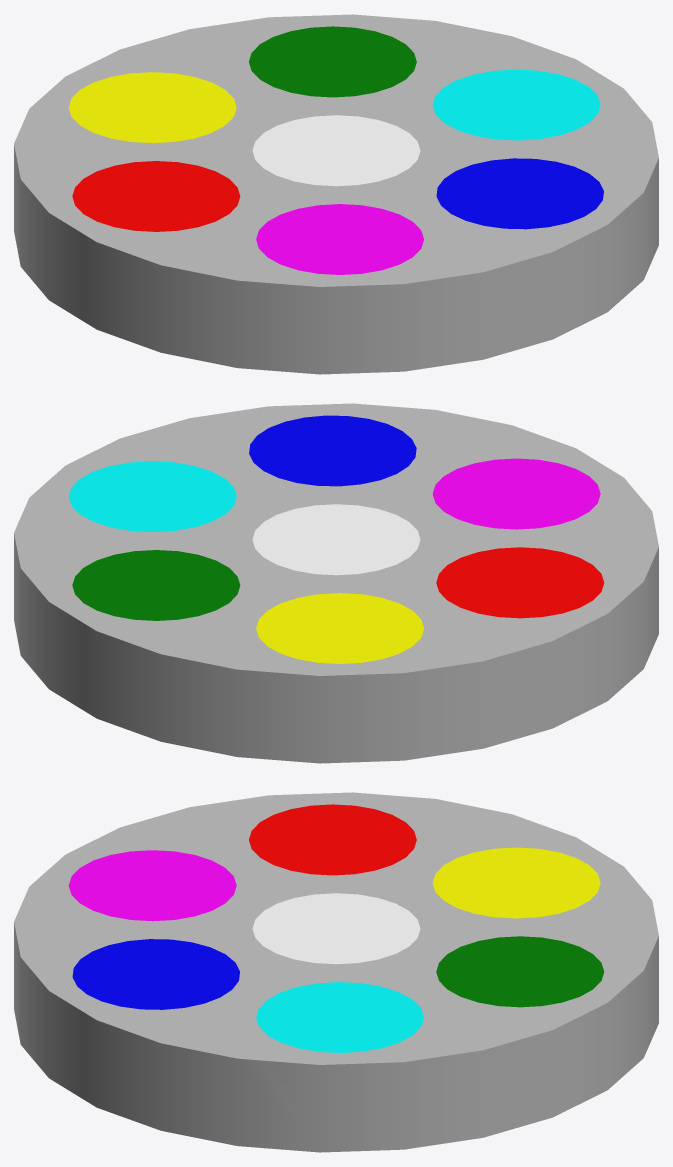
File: パック(pink).dae
3 renders of one model, top to bottom at view 1: azimuth 30°, elevation 25°; view 2: azimuth 150°, elevation 25°; view 3: azimuth 270°, elevation 25°, orthographic.
Visible parts, largest first — view 1: SketchUp (×8); view 2: SketchUp (×8); view 3: SketchUp (×8).
Part boxes in pixels (x1=…): SketchUp (×8): x1=14, y1=14, x2=658, y2=374; SketchUp (×8): x1=14, y1=403, x2=658, y2=763; SketchUp (×8): x1=14, y1=792, x2=658, y2=1152.
Bounding box in the file's own units: 181 × 181 × 27.13.
